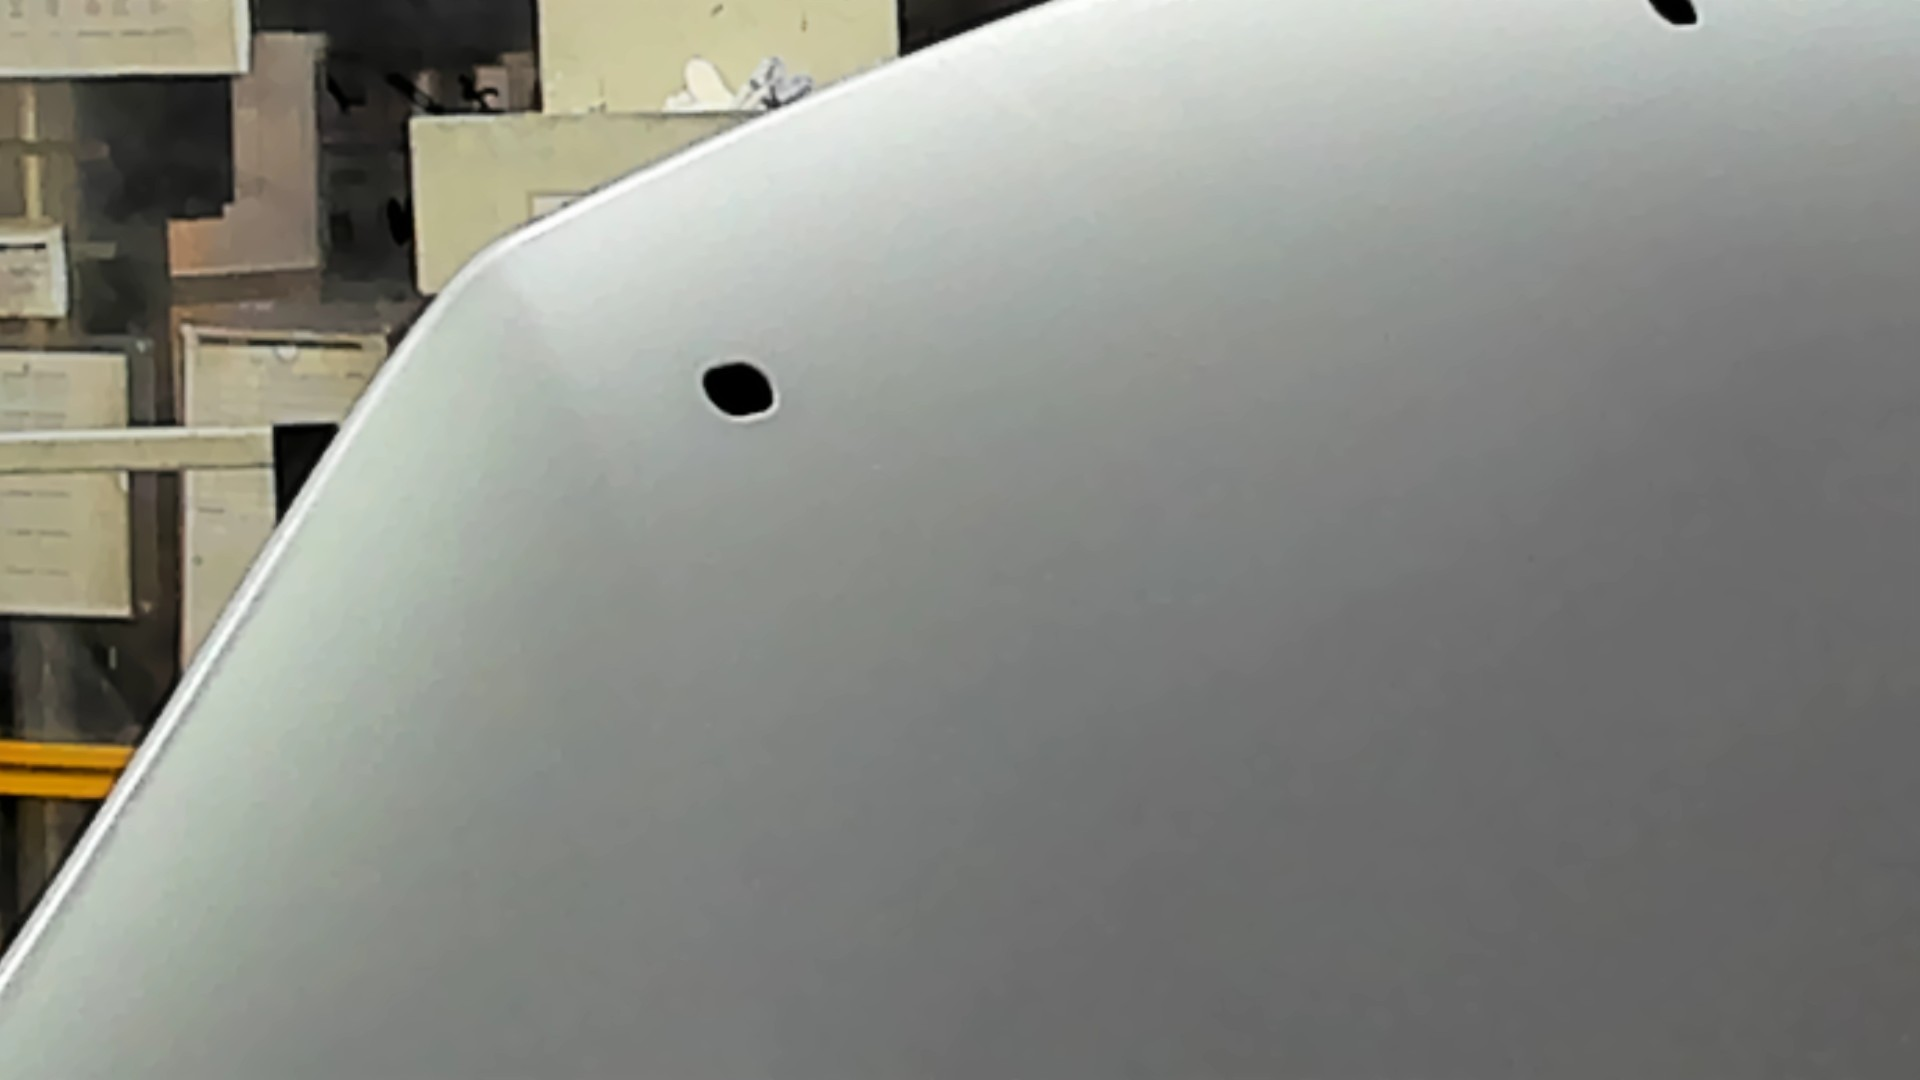amorfo: (691, 355, 782, 426), (1643, 1, 1705, 32)
